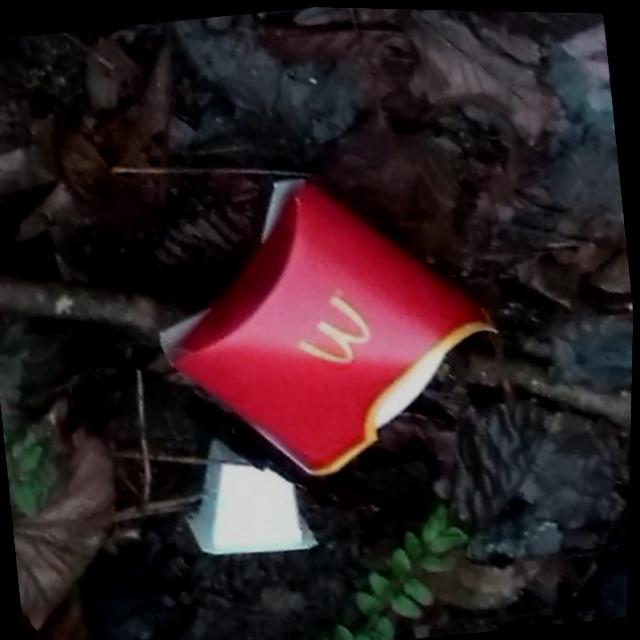Paper: (132, 145, 521, 498)
